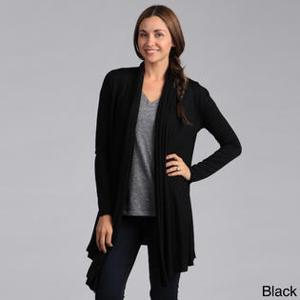C_cardigan sweater: (71, 64, 259, 264)
